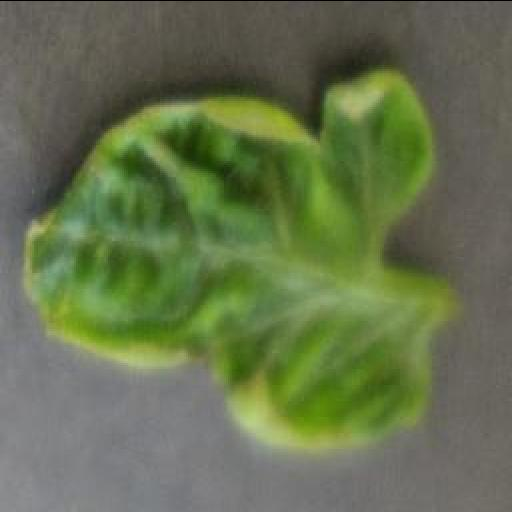disease_tomato: (22, 68, 436, 450)
